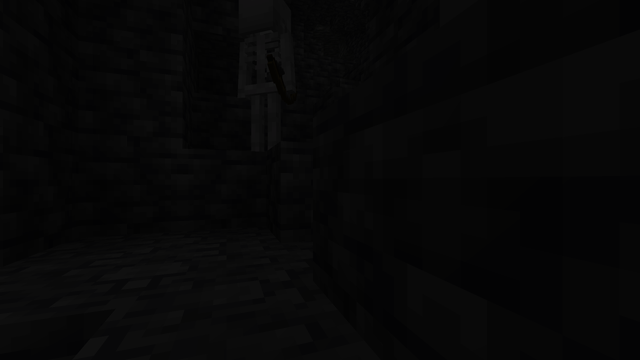squelettes: (241, 1, 292, 153)
